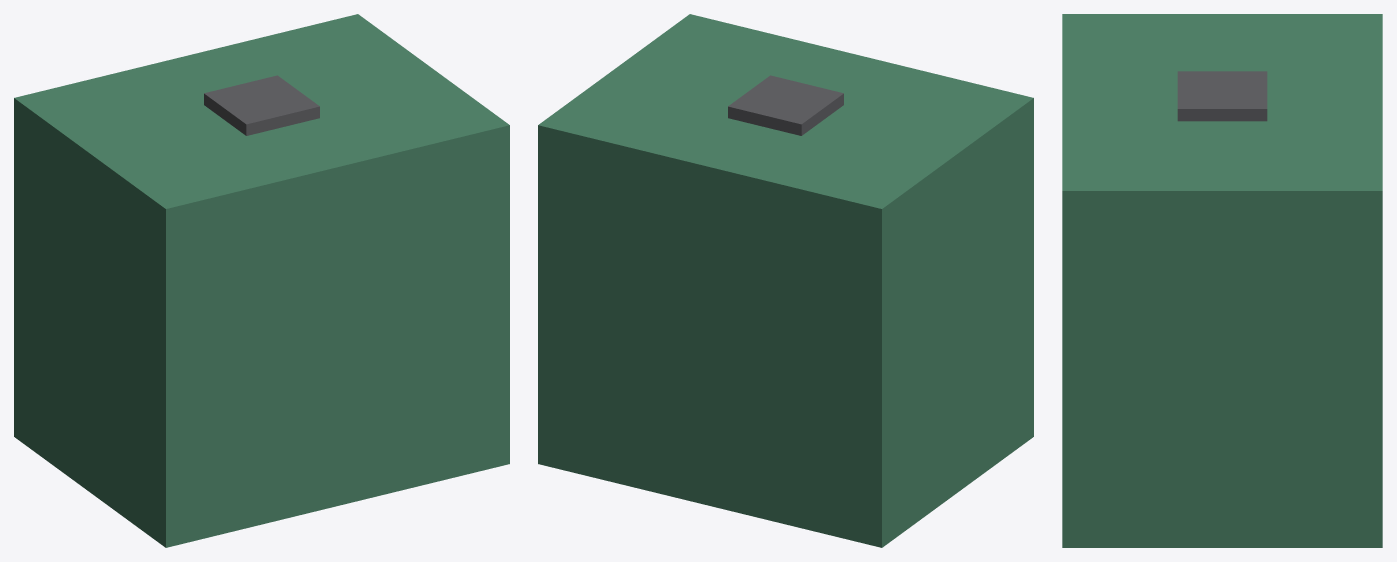
File: joystick-ky023.glb
3 views of the same model, side by side, from view 1: azimuth 30°, elevation 25°; view 2: azimuth 150°, elevation 25°; view 3: azimuth 270°, elevation 25° (orthographic). The views are drawn at different scales.
Visible parts, largest first — view 1: joystick-ky023-pcb, joystick-ky023-ic; view 2: joystick-ky023-pcb, joystick-ky023-ic; view 3: joystick-ky023-pcb, joystick-ky023-ic.
Boxes of the visible parts, x1,y1,x2,y2 form: joystick-ky023-pcb: [14, 14, 509, 547]; joystick-ky023-ic: [204, 75, 319, 135]; joystick-ky023-pcb: [538, 14, 1033, 547]; joystick-ky023-ic: [728, 75, 843, 135]; joystick-ky023-pcb: [1062, 14, 1382, 547]; joystick-ky023-ic: [1177, 71, 1267, 121].
Bounding box in the file's own units: 0.034 × 0.0331 × 0.026.
